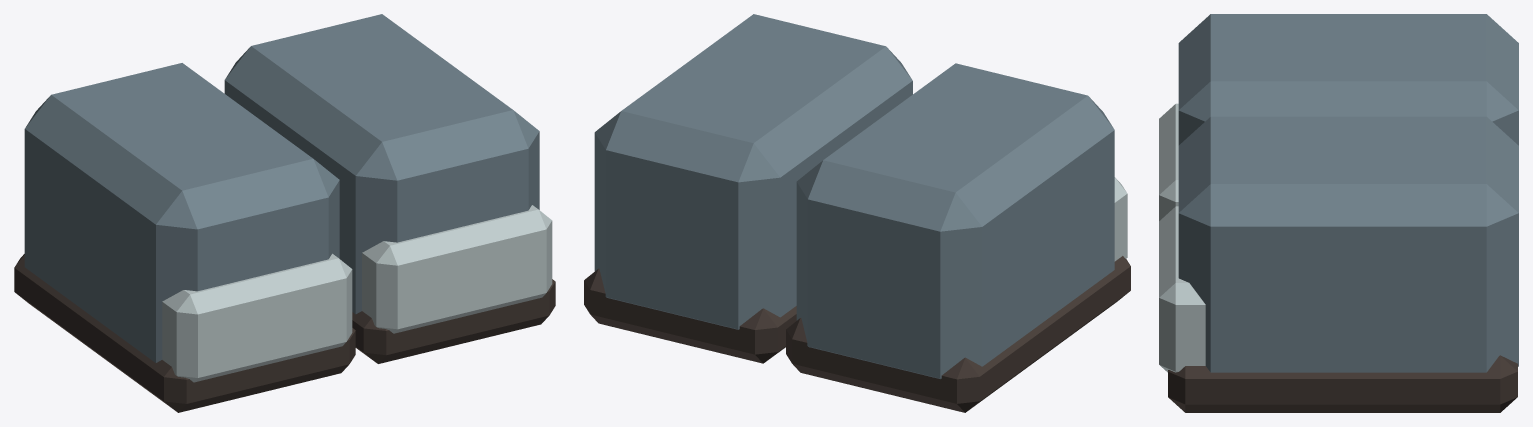
The model's file is iron_boots.glb.
3 views of the same model, side by side, from view 1: azimuth 30°, elevation 25°; view 2: azimuth 150°, elevation 25°; view 3: azimuth 270°, elevation 25° (orthographic). The views are drawn at different scales.
Parts seen in each view (by area): view 1: Gear_Feet_Iron__Boot_L, Gear_Feet_Iron__Boot_R, Gear_Feet_Iron__Toe_R, Gear_Feet_Iron__Toe_L, Gear_Feet_Iron__Sole_L, Gear_Feet_Iron__Sole_R; view 2: Gear_Feet_Iron__Boot_L, Gear_Feet_Iron__Boot_R, Gear_Feet_Iron__Sole_L, Gear_Feet_Iron__Sole_R, Gear_Feet_Iron__Toe_L; view 3: Gear_Feet_Iron__Boot_R, Gear_Feet_Iron__Boot_L, Gear_Feet_Iron__Sole_R, Gear_Feet_Iron__Toe_R, Gear_Feet_Iron__Toe_L.
Boxes of the visible parts, x1,y1,x2,y2 form: Gear_Feet_Iron__Boot_L: [24, 63, 339, 362]; Gear_Feet_Iron__Boot_R: [224, 14, 539, 314]; Gear_Feet_Iron__Toe_R: [362, 205, 552, 333]; Gear_Feet_Iron__Toe_L: [162, 253, 352, 382]; Gear_Feet_Iron__Sole_L: [14, 254, 355, 412]; Gear_Feet_Iron__Sole_R: [352, 279, 555, 363]; Gear_Feet_Iron__Boot_L: [796, 63, 1114, 379]; Gear_Feet_Iron__Boot_R: [594, 14, 912, 329]; Gear_Feet_Iron__Sole_L: [786, 256, 1130, 412]; Gear_Feet_Iron__Sole_R: [584, 268, 796, 363]; Gear_Feet_Iron__Toe_L: [1114, 177, 1127, 261]; Gear_Feet_Iron__Boot_R: [1178, 116, 1518, 372]; Gear_Feet_Iron__Boot_L: [1178, 14, 1518, 145]; Gear_Feet_Iron__Sole_R: [1168, 355, 1517, 412]; Gear_Feet_Iron__Toe_R: [1159, 206, 1205, 372]; Gear_Feet_Iron__Toe_L: [1159, 103, 1178, 220].
Size of the model in its own units: 0.49 by 0.2505 by 0.37.
